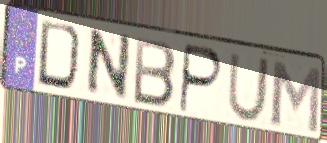B: (131, 35, 178, 111)
D: (35, 18, 87, 96)
M: (269, 57, 323, 136)
N: (83, 26, 133, 104)
P: (177, 41, 225, 116)
U: (225, 51, 272, 125)
